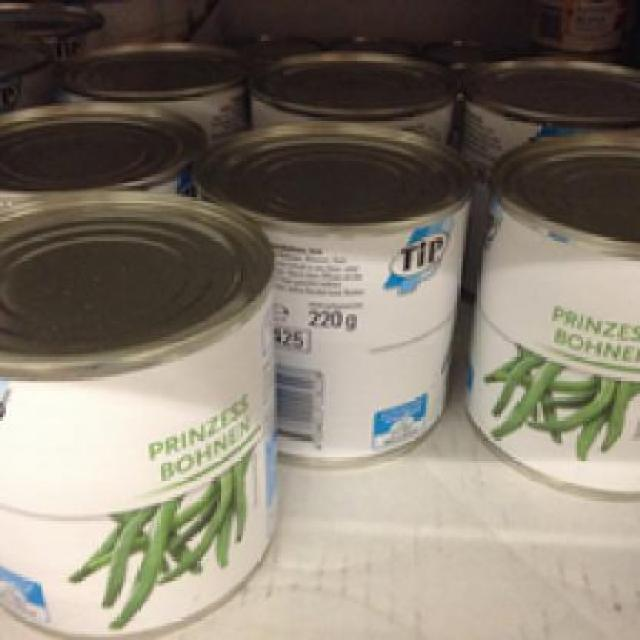Beans: (0, 197, 280, 614), (472, 123, 638, 500)
